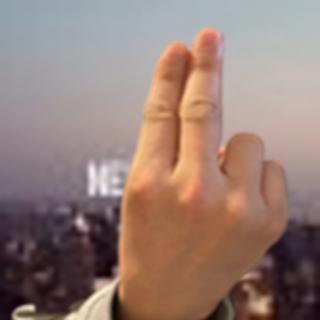DHAVE: (111, 23, 293, 308)
